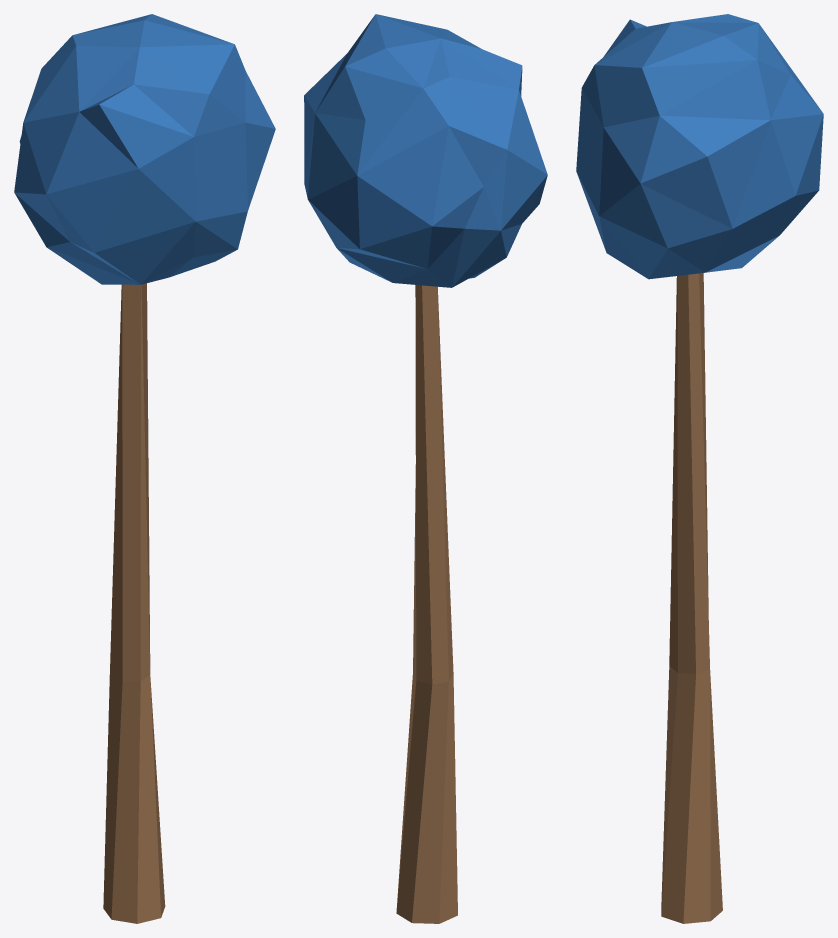
File: tree.glb
3 views of the same model, side by side, from view 1: azimuth 30°, elevation 25°; view 2: azimuth 150°, elevation 25°; view 3: azimuth 270°, elevation 25° (orthographic). The views are drawn at different scales.
Parts seen in each view (by area): view 1: Tree; view 2: Tree; view 3: Tree.
Part boxes in pixels (<box>): Tree: <box>14,14,275,923</box>; Tree: <box>304,14,547,923</box>; Tree: <box>576,14,823,923</box>.
Size of what is drawn, in the model's own units: 3.21 by 12.09 by 3.06.
1 material, 1 textured.
